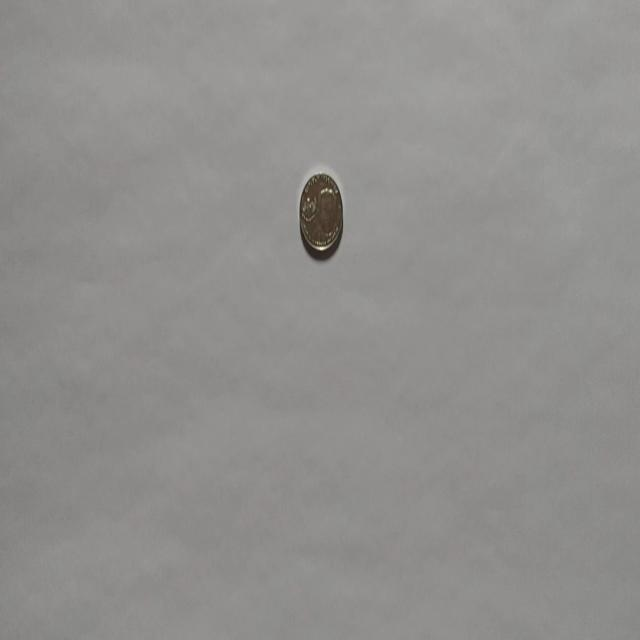seratus rupiah: (298, 170, 344, 254)
